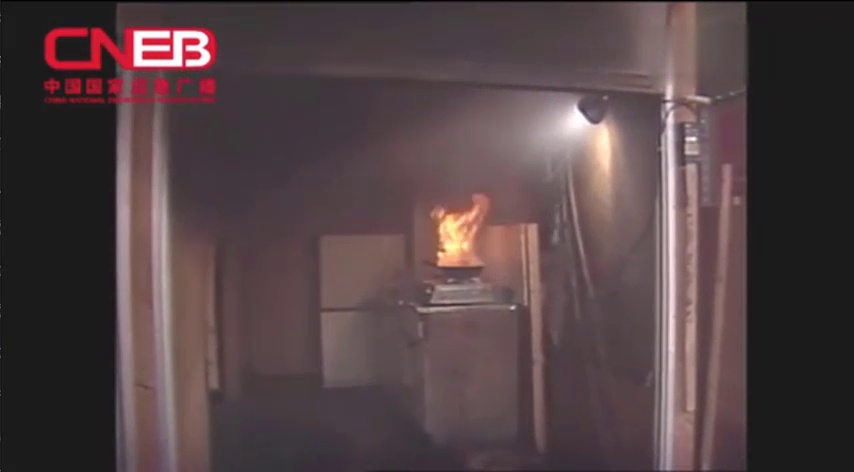fire: (424, 188, 499, 276)
